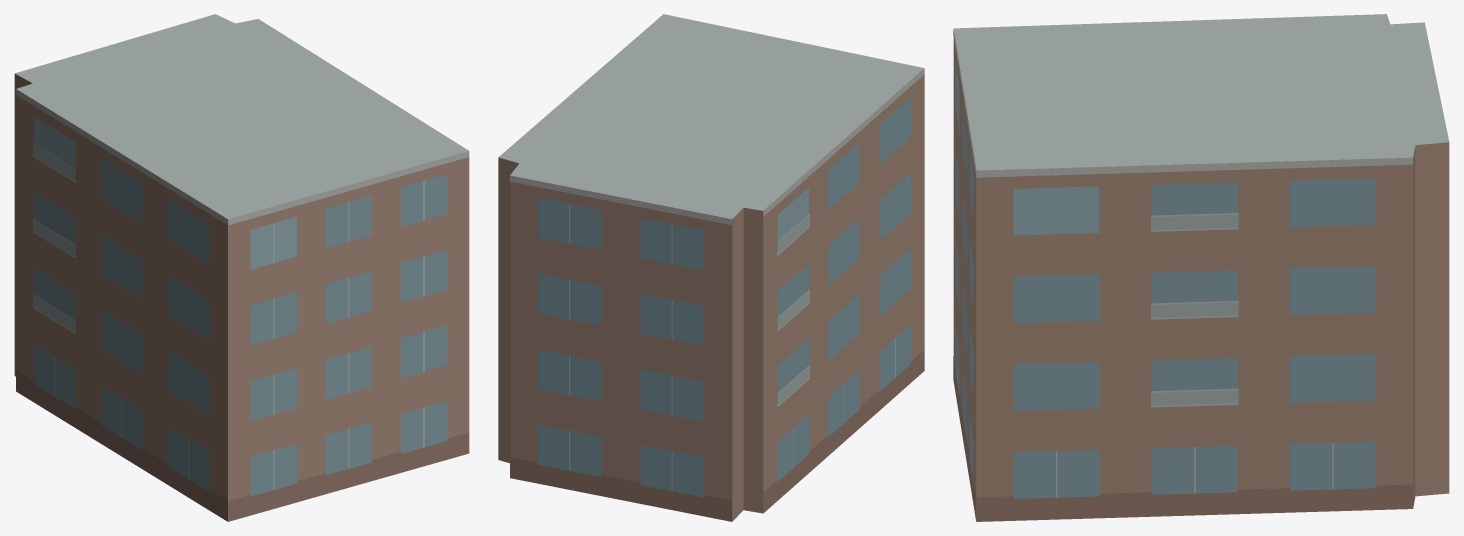
File: survey-upis-32775469.glb
3 renders of one model, left to right at view 1: azimuth 30°, elevation 25°; view 2: azimuth 150°, elevation 25°; view 3: azimuth 270°, elevation 25°, orthographic. The views are drawn at different scales.
Visible parts, largest first — view 1: survey-upis-32775469.tmp; view 2: survey-upis-32775469.tmp; view 3: survey-upis-32775469.tmp.
Part boxes in pixels (x1,y1,x2,y2): survey-upis-32775469.tmp: (14,14,469,521); survey-upis-32775469.tmp: (498,14,924,521); survey-upis-32775469.tmp: (953,14,1449,521).
Bounding box in the file's own units: 11.68 × 12.2 × 15.62.
